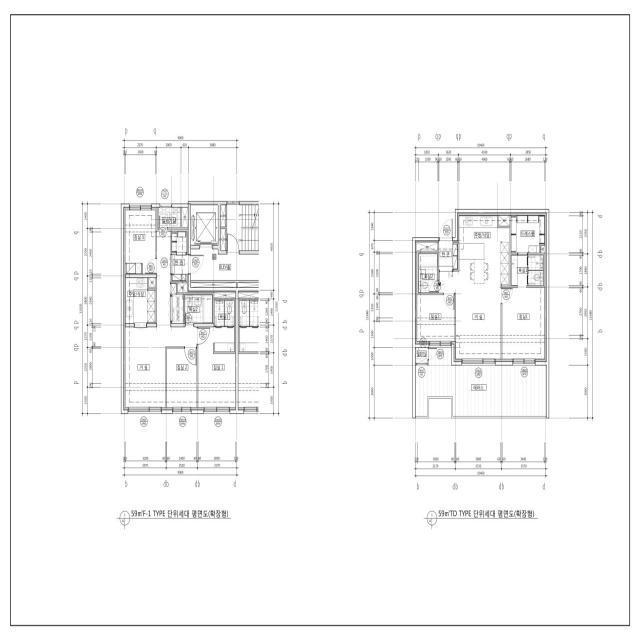space_bedroom: (502, 288, 546, 361), (198, 327, 235, 410), (124, 208, 157, 274), (415, 295, 455, 344), (167, 349, 197, 410)
space_dressroom: (511, 213, 546, 253)
space_elevator: (191, 205, 218, 245)
space_elevator_hall: (191, 249, 259, 280)
space_front: (439, 241, 458, 272), (172, 255, 188, 281)
space_kitchen: (458, 213, 510, 286), (124, 278, 155, 323)
space_living_room: (124, 229, 197, 410), (439, 272, 501, 361)
space_other: (172, 229, 188, 253), (172, 295, 183, 323), (415, 241, 438, 251), (191, 282, 236, 287), (214, 291, 235, 298), (499, 213, 510, 226), (182, 208, 188, 227), (221, 229, 226, 251), (238, 282, 259, 287), (178, 283, 188, 293), (221, 205, 225, 227), (149, 278, 155, 287), (541, 246, 546, 253)
space_outdoor_room: (159, 208, 180, 227), (415, 348, 428, 363)
space_staircase: (227, 205, 259, 251)
space_toilet: (213, 300, 234, 352), (511, 255, 544, 288), (418, 253, 438, 293), (185, 295, 212, 323)
